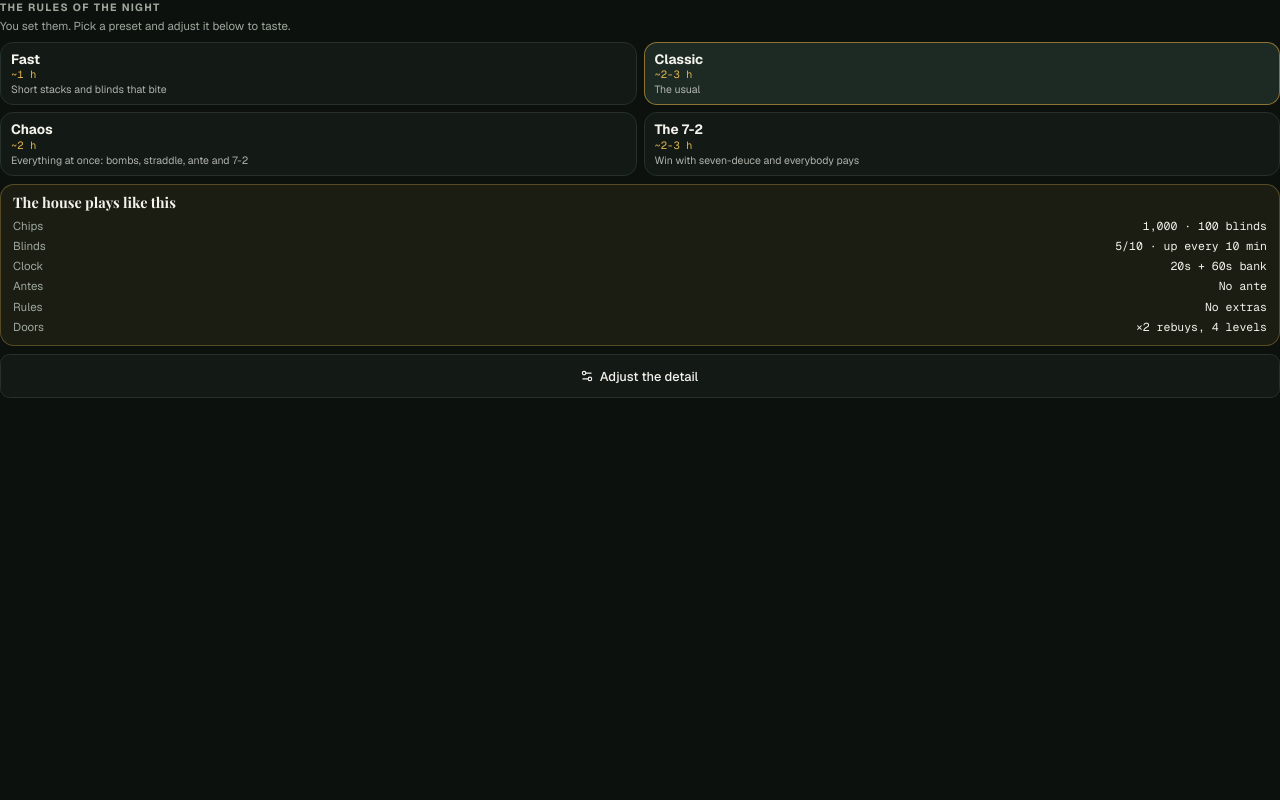
the detail sheet › asks for the stack in blinds and shows what that comes to in chips
Click the button "Adjust the detail" at (640, 376), box [0,354,1279,398]
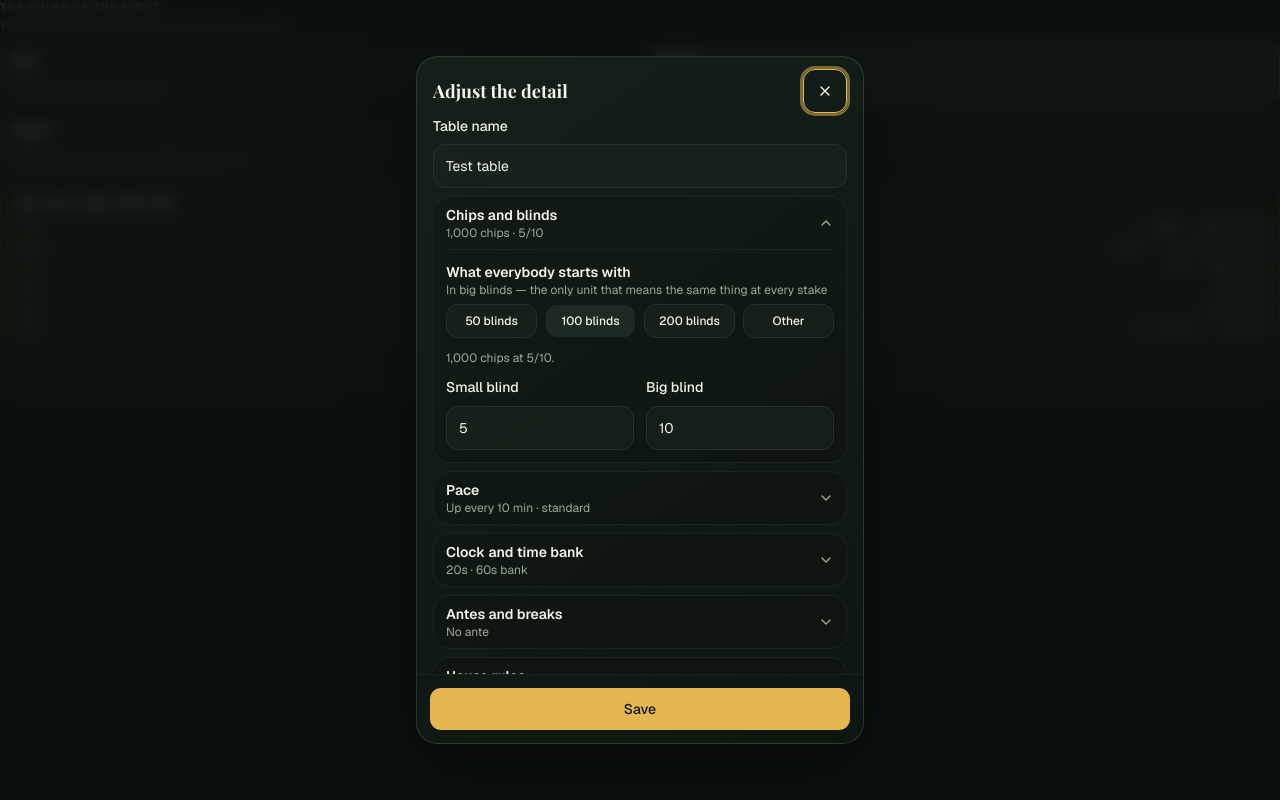
Check: the text "1,000 chips at 5/10." is shown, box [446,350,554,366]
Click the button "200 blinds" at (690, 321), box [644,304,735,338]
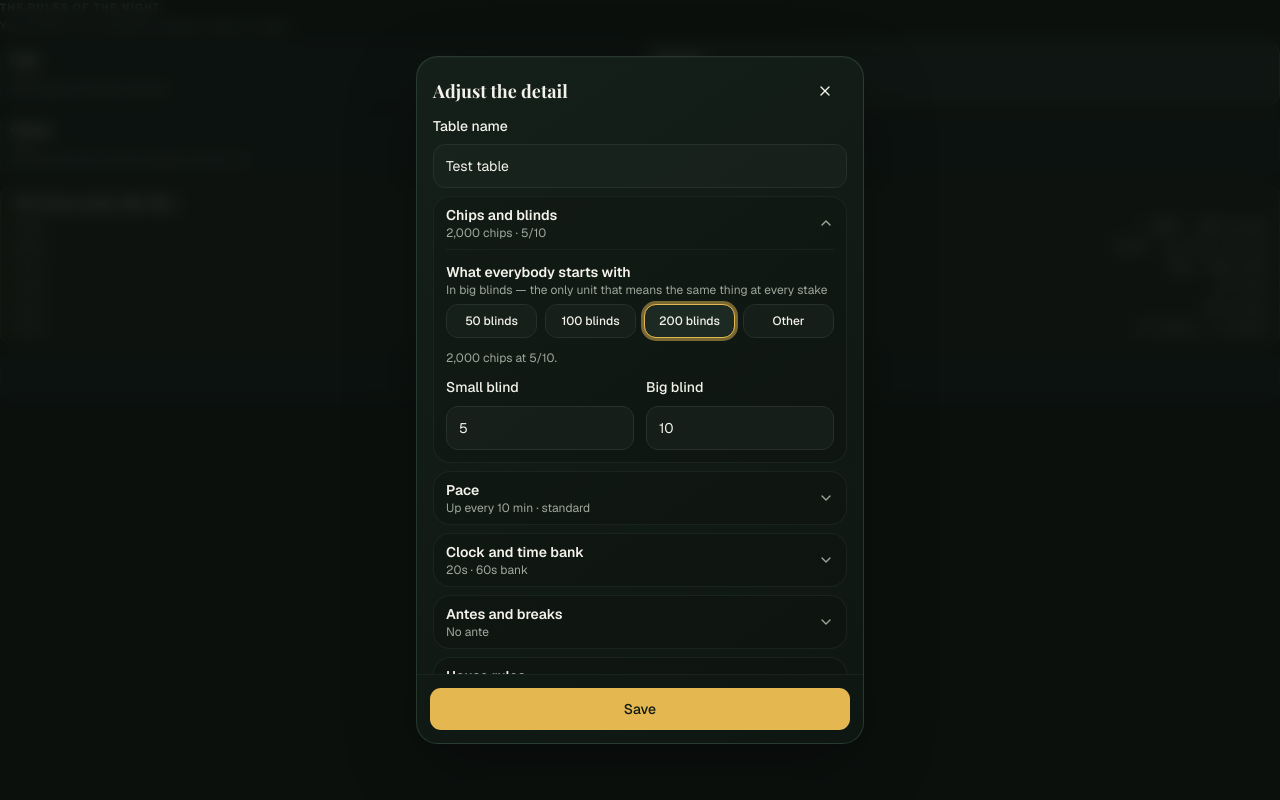
Check: the text "2,000 chips at 5/10." is shown, box [446,350,557,366]
